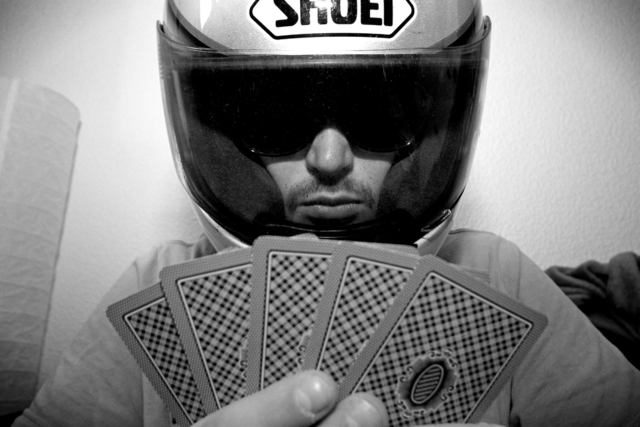helmet: (159, 2, 477, 239)
